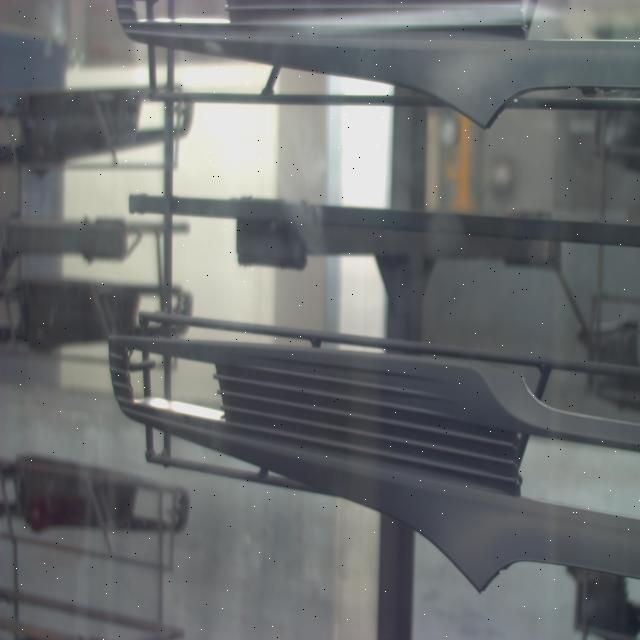Primered: (101, 304, 640, 602), (116, 0, 636, 142)
